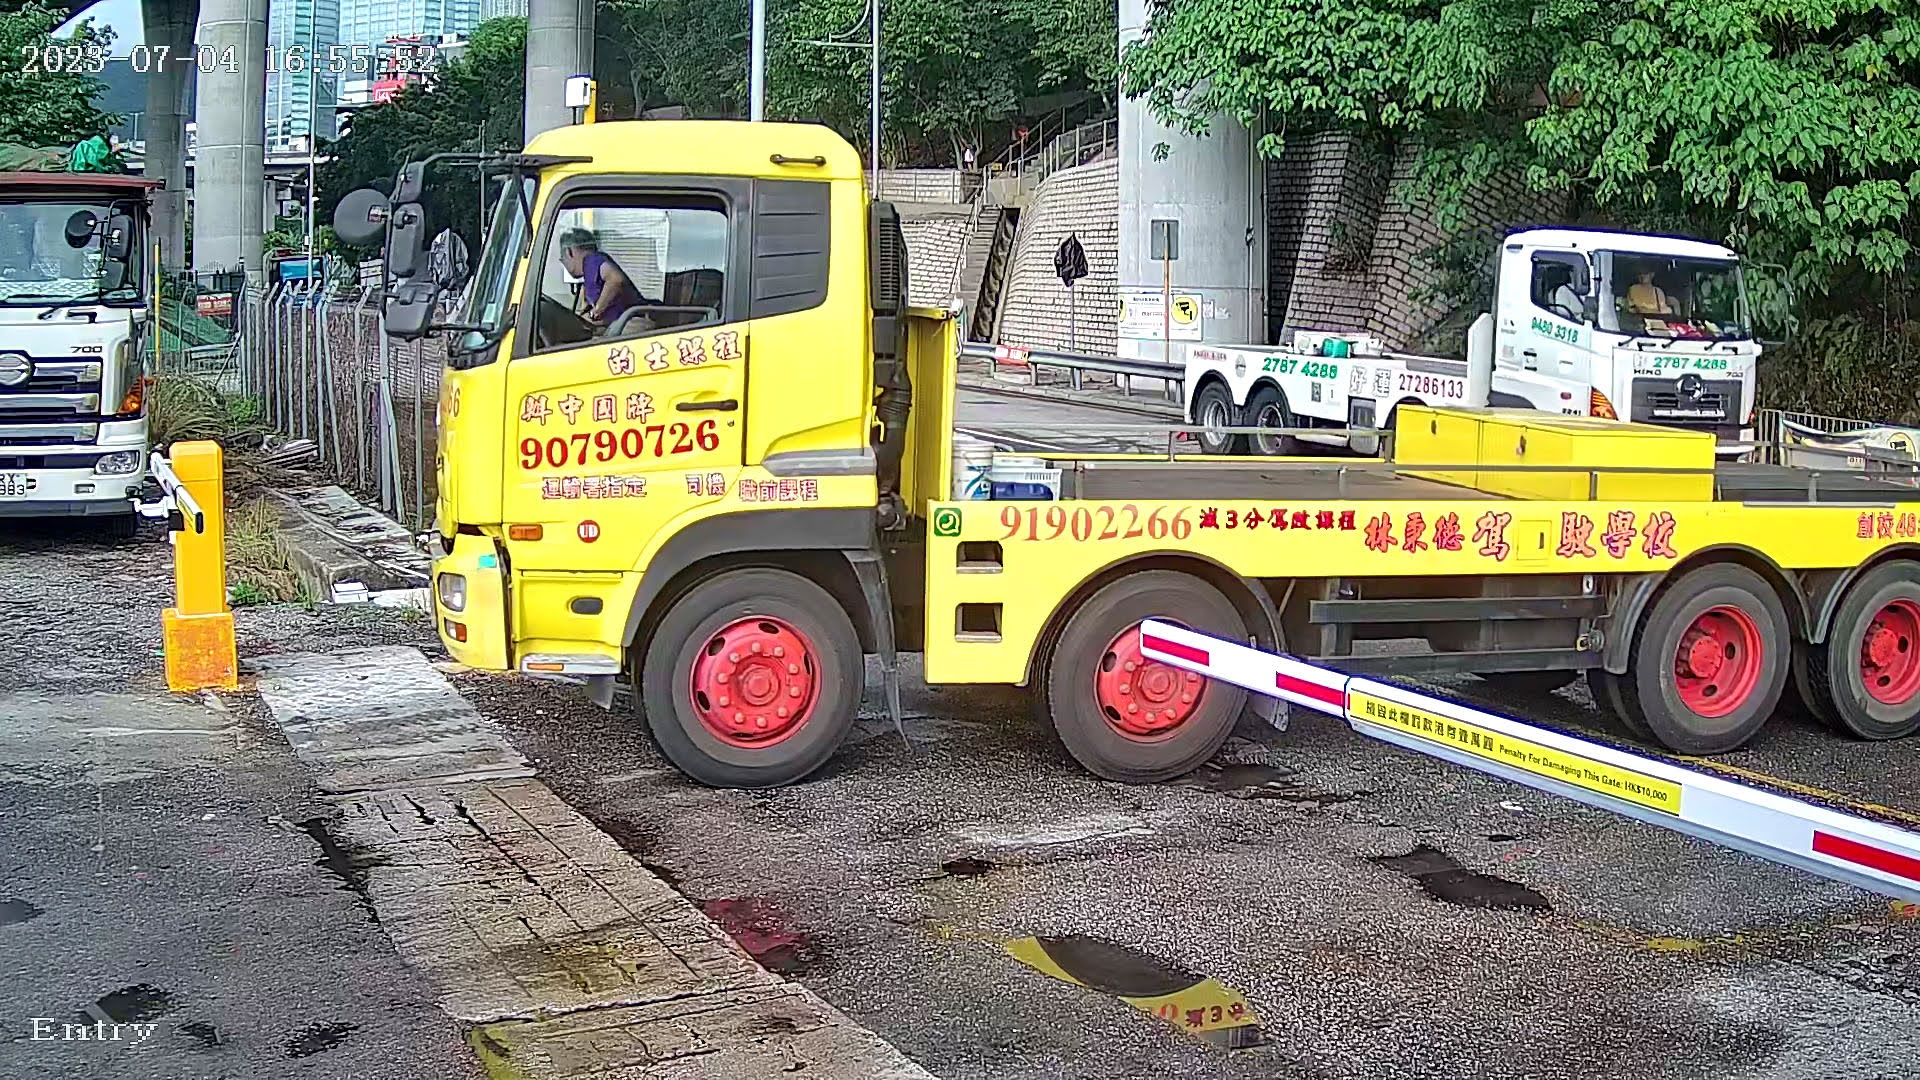truck_large: (411, 67, 1920, 825)
